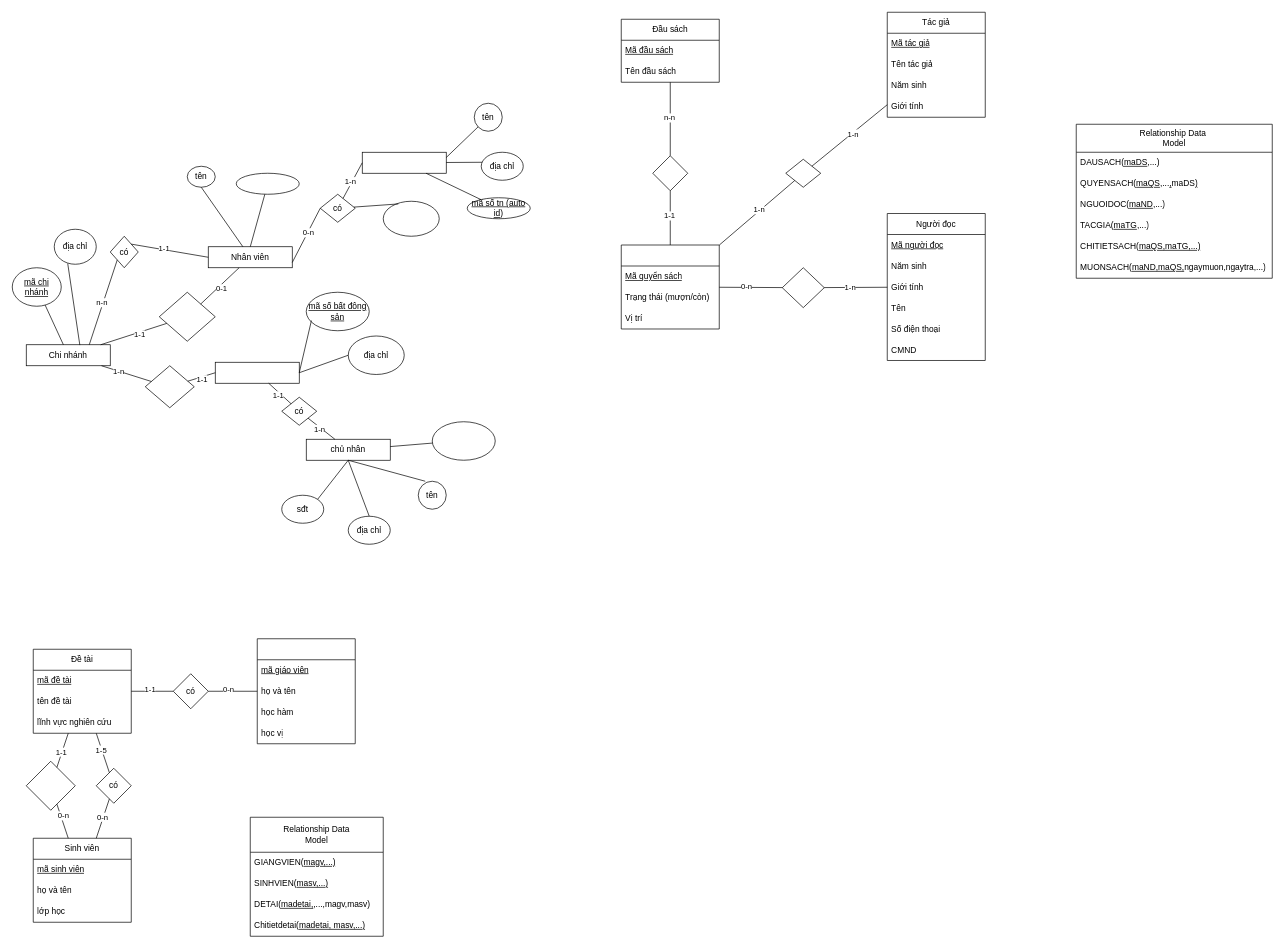
Some shapes in this 1285 by 949 pixel diagram are drawn without their labels. The shapes that lost their labels are listed below. From the top down, each one's box as (x1, y1, x2, y2) in pixels, then its label:
(362, 152, 446, 173): Thân nhân
(652, 155, 688, 191): thuộc
(785, 159, 821, 187): viết
(236, 173, 299, 194): mã nhân viên
(383, 201, 439, 236): mối quan hệ với nhân viên
(621, 244, 719, 329): Quyền sách
(782, 267, 824, 308): mượn
(159, 292, 215, 341): làm trưởng
(145, 365, 194, 408): rao bán
(215, 362, 299, 383): Bất động sản
(432, 421, 495, 460): mã số chủ nhân
(257, 638, 355, 744): Giáo viên hướng dẫn
(26, 761, 75, 810): trưởng nhóm
